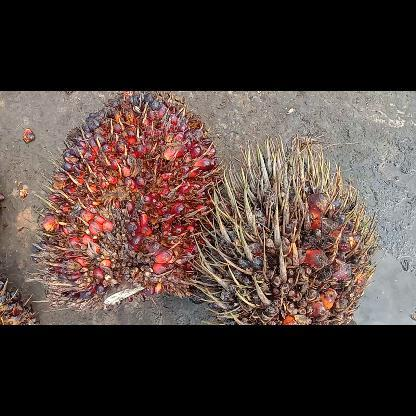TBS abnormal: (207, 134, 380, 324)
TBS masak: (30, 90, 224, 310)
